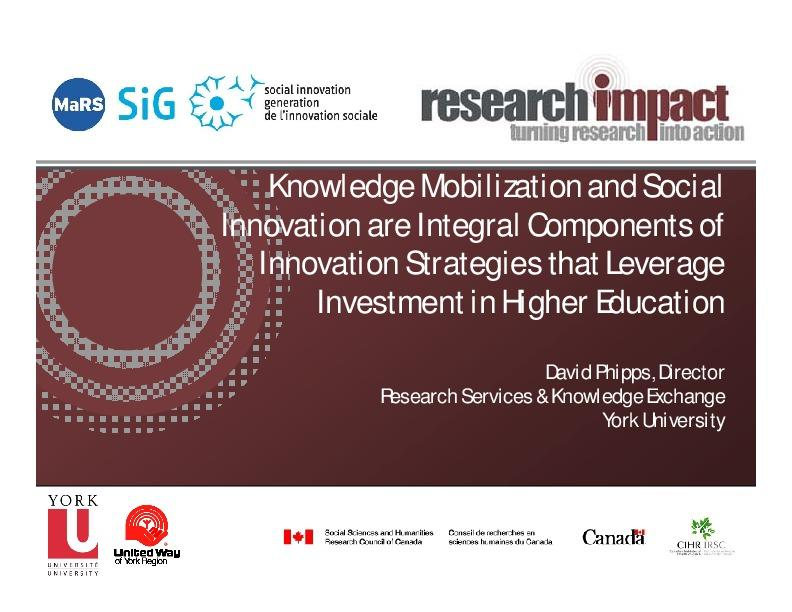subtitle: (211, 158, 748, 332), (35, 491, 755, 588), (378, 350, 759, 473)
title: (29, 61, 777, 149)
